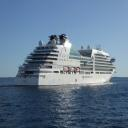cruises: (13, 33, 118, 90)
